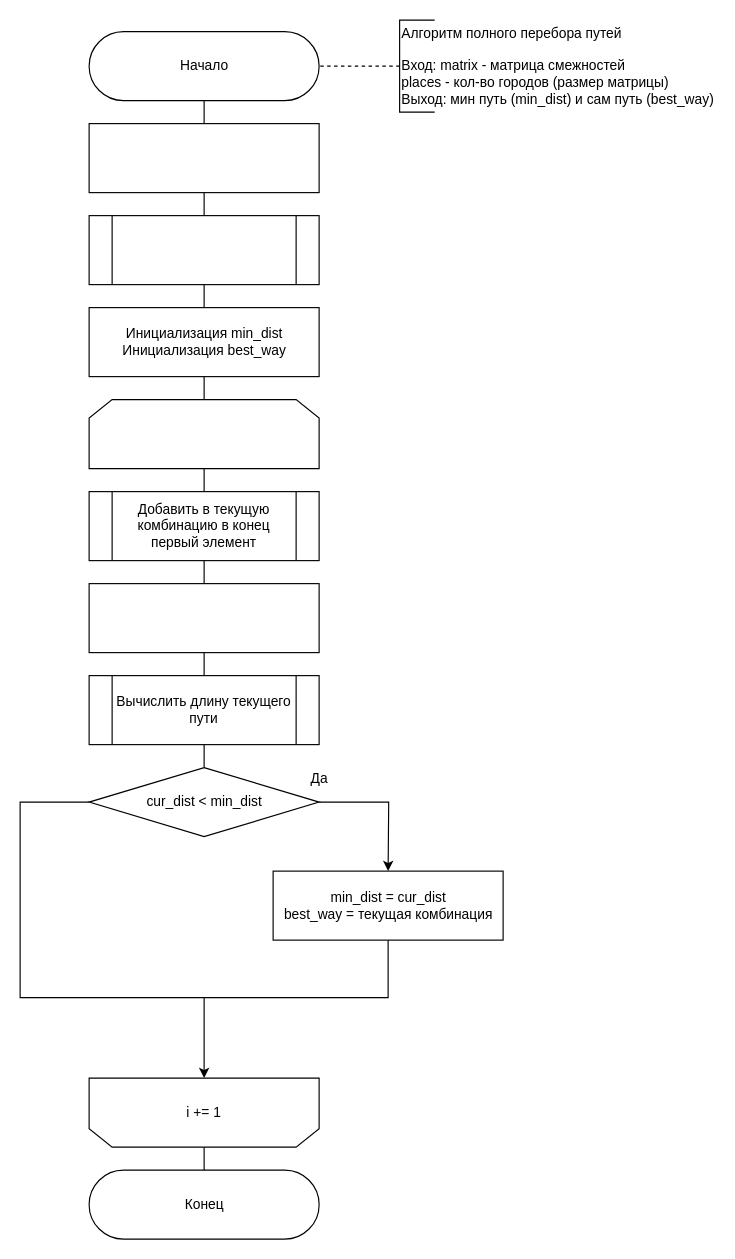
The diagram is 735 pixels wide and 1259 high, and some of its shapes have lost their labels. The shapes that lost their labels are listed below. From the top down, each one's centre as x and y in pixels, then its label:
At (203,157): "places = массив городов по size".
At (203,249): "places_combs = массив комбинаций городов places".
At (203,433): "Цикл i от 0 до кол-ва перестановок городов places_combs".
At (203,617): "Длина текущего пути (cur_dist) = 0".
